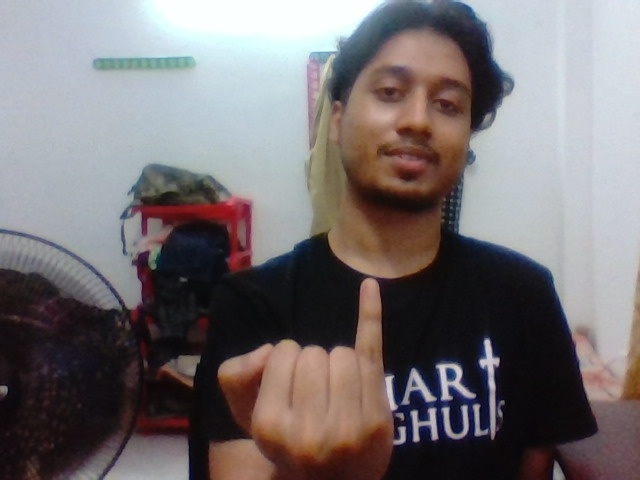I: (251, 265, 416, 465)
